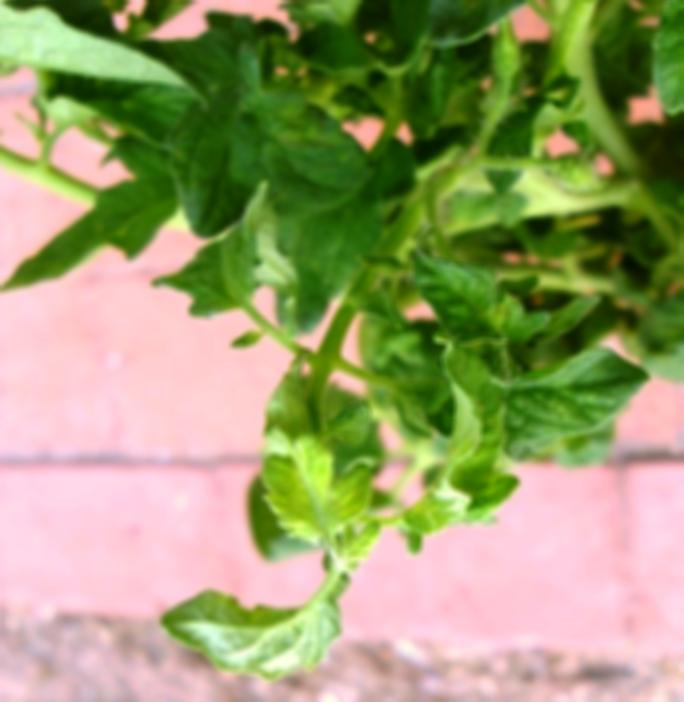Tomato leaf yellow virus: (400, 323, 531, 553), (240, 358, 377, 550), (143, 573, 369, 684), (139, 169, 281, 338), (479, 326, 656, 454)
